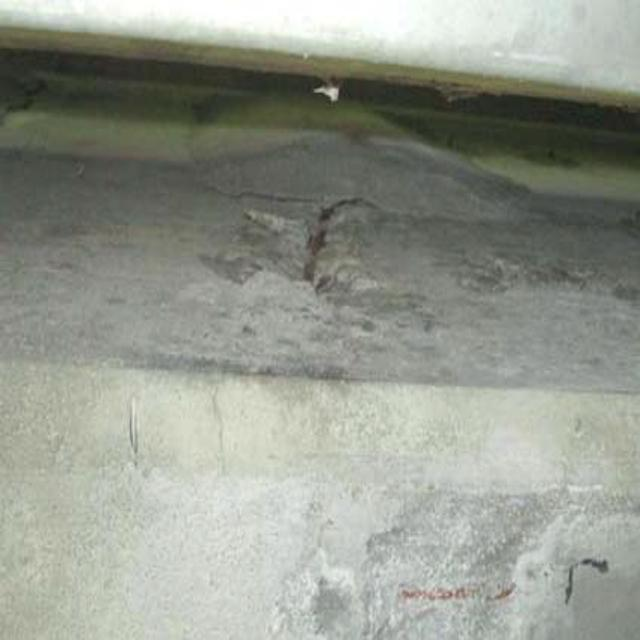spalling: (264, 465, 628, 640), (207, 178, 420, 323)
